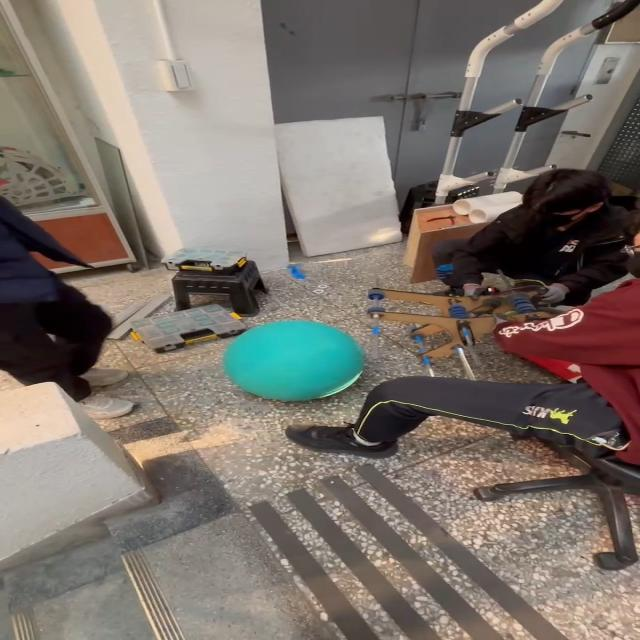ALGAE: (220, 318, 366, 402)
